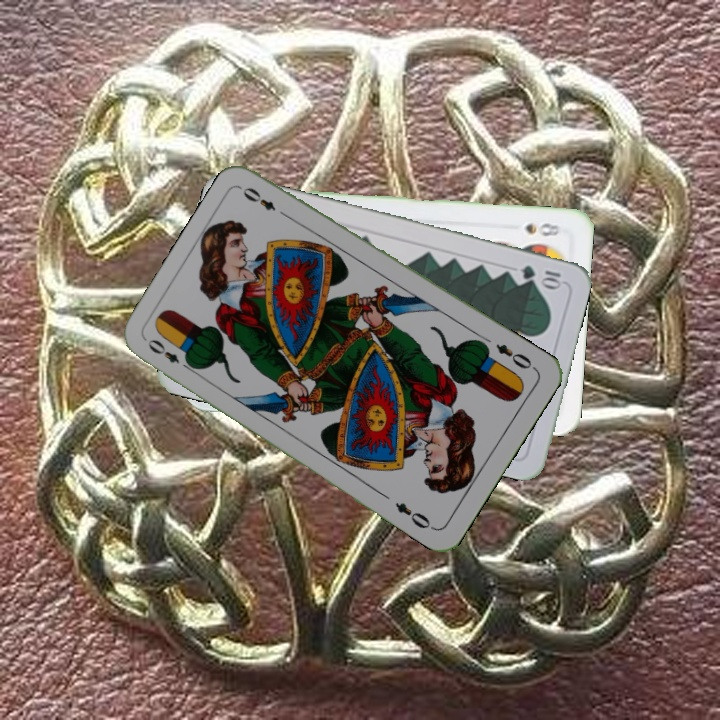EO: (143, 335, 196, 374), (491, 340, 539, 373)
G10: (517, 261, 564, 290)
S8: (521, 219, 564, 239)
